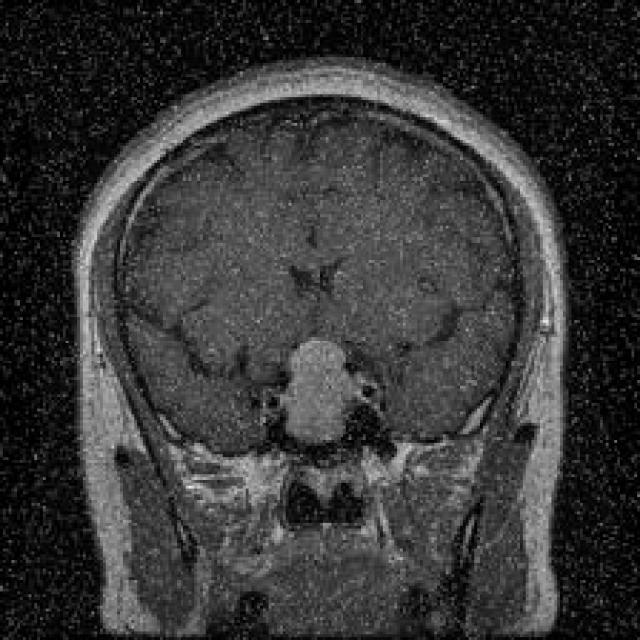pituitary_tumor: (269, 331, 370, 467)
